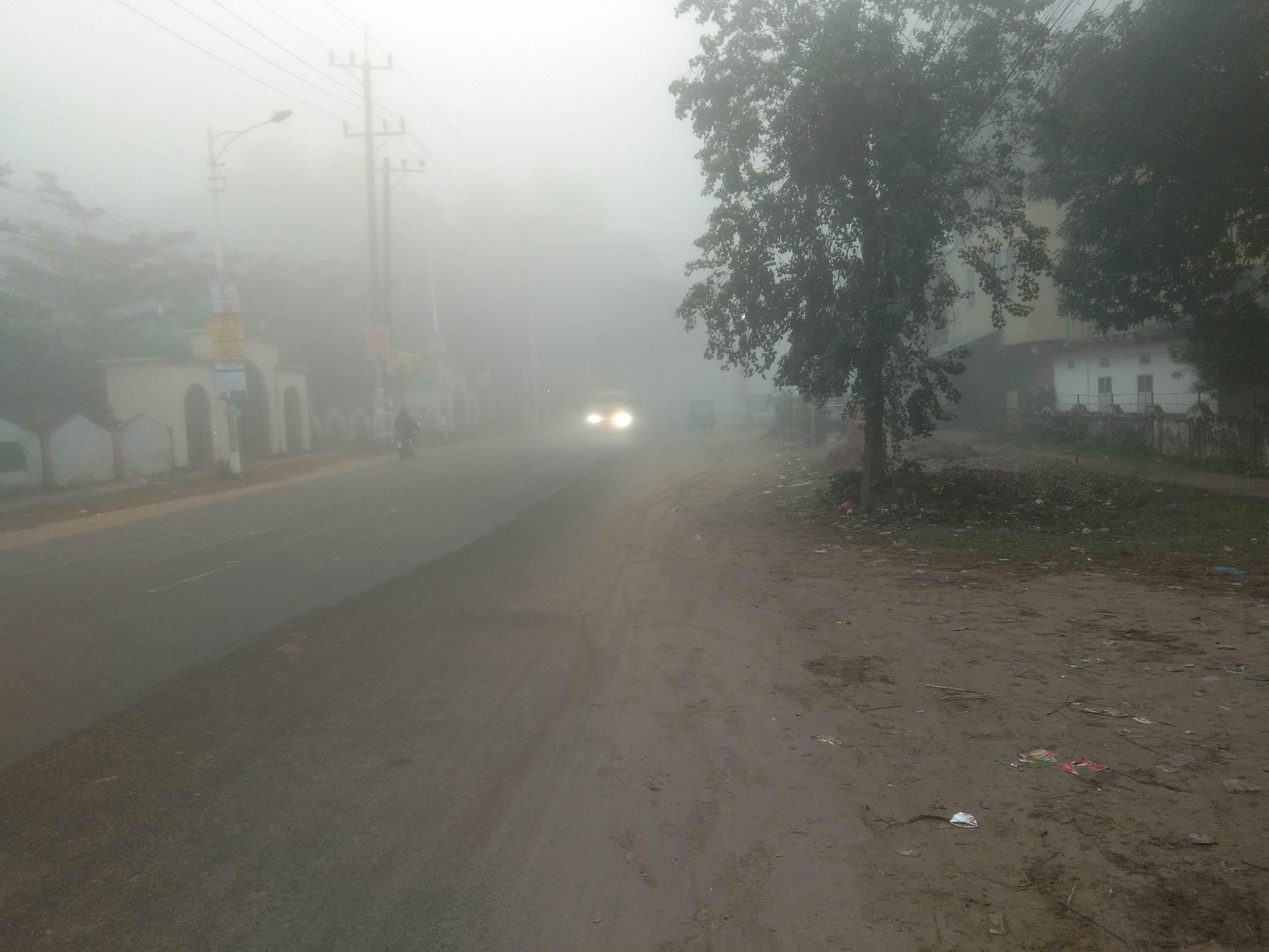Bike: (384, 402, 451, 470)
